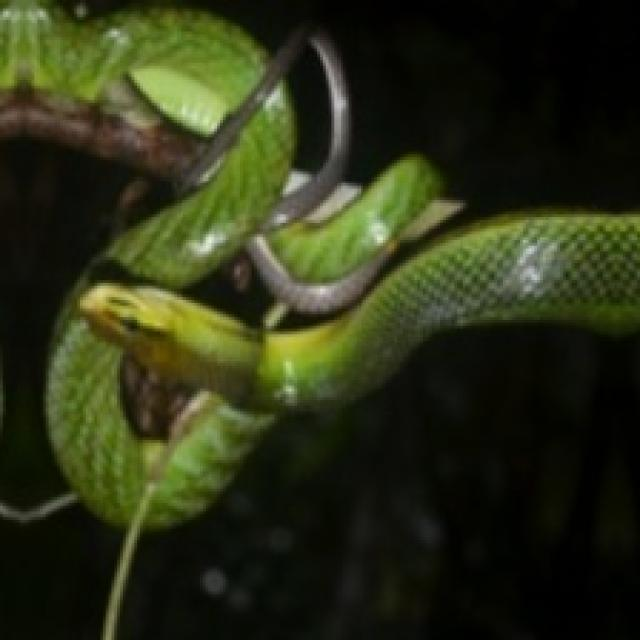red-tailed green ratsnake: (49, 31, 637, 554)
